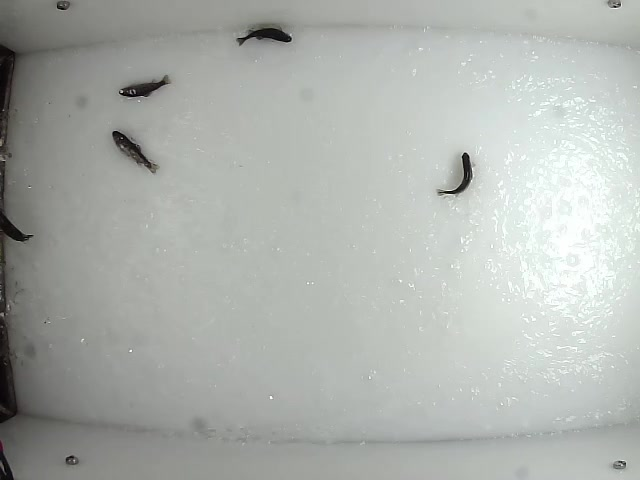fish: (109, 129, 160, 176), (432, 151, 475, 198), (113, 71, 172, 104), (234, 25, 292, 48)
